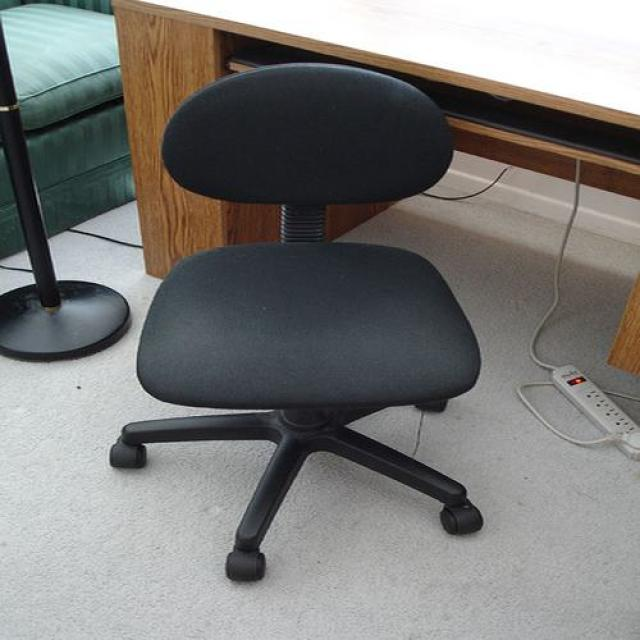swivelchair: (109, 63, 485, 586)
